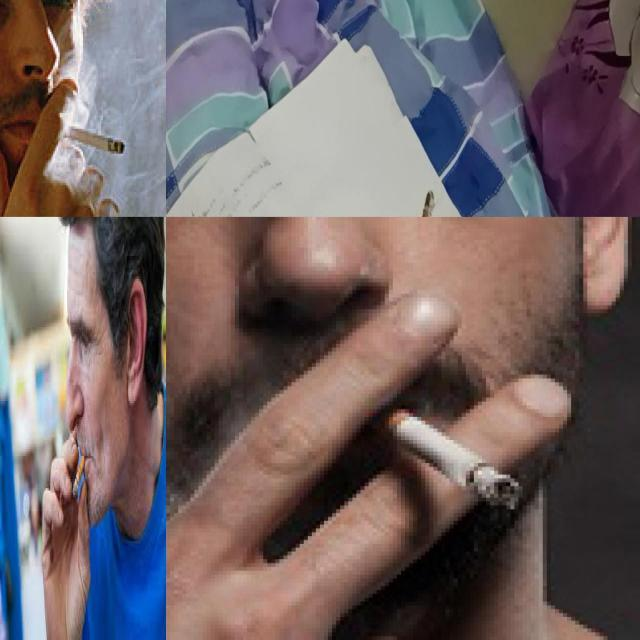smoke: (380, 406, 514, 506), (62, 121, 125, 155), (405, 189, 437, 216), (72, 455, 84, 498)
